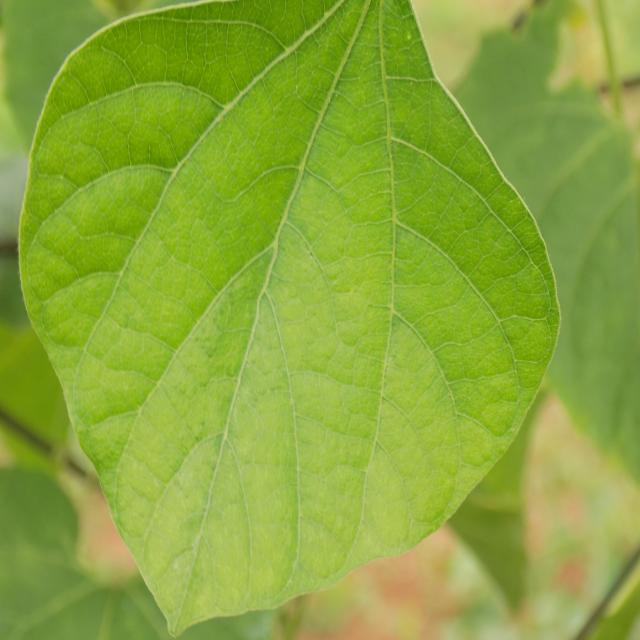Dolicos bean_healthy: (18, 0, 562, 632)
